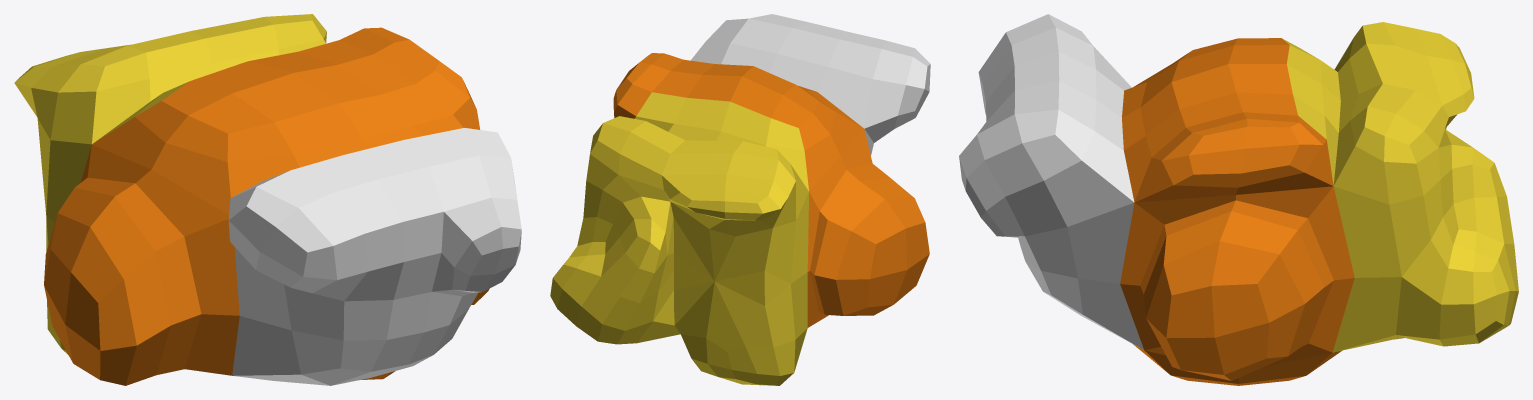
File: candycornchunk.fbx
The picture shows the model from 3 angles, left to right: view 1: azimuth 30°, elevation 25°; view 2: azimuth 150°, elevation 25°; view 3: azimuth 270°, elevation 25°; orthographic projection. The views are drawn at different scales.
Parts seen in each view (by area): view 1: Cube; view 2: Cube; view 3: Cube.
Part boxes in pixels (left/top/right/bottom): Cube: left=14, top=14, right=521, bottom=385; Cube: left=550, top=14, right=930, bottom=385; Cube: left=959, top=14, right=1518, bottom=385.
Bounding box in the file's own units: 435 × 333 × 548.
